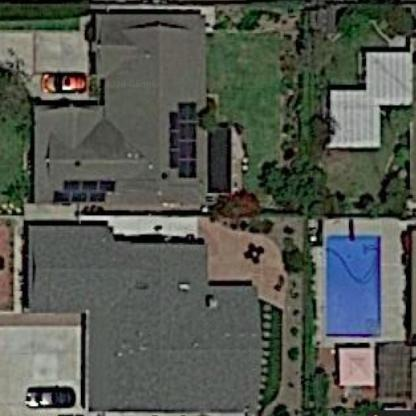car: (21, 376, 75, 414), (41, 64, 94, 98)
solar_panel: (164, 89, 197, 181), (47, 175, 122, 210)
swimming_pool: (312, 224, 388, 351)
